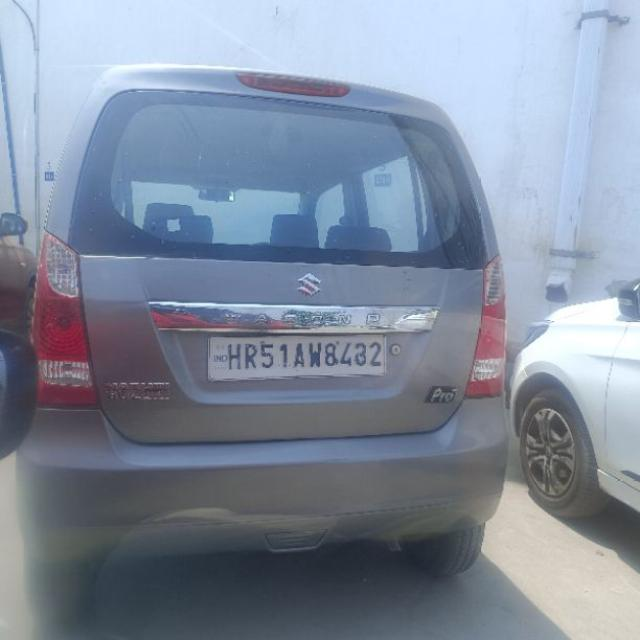license_plate: (205, 332, 388, 381)
